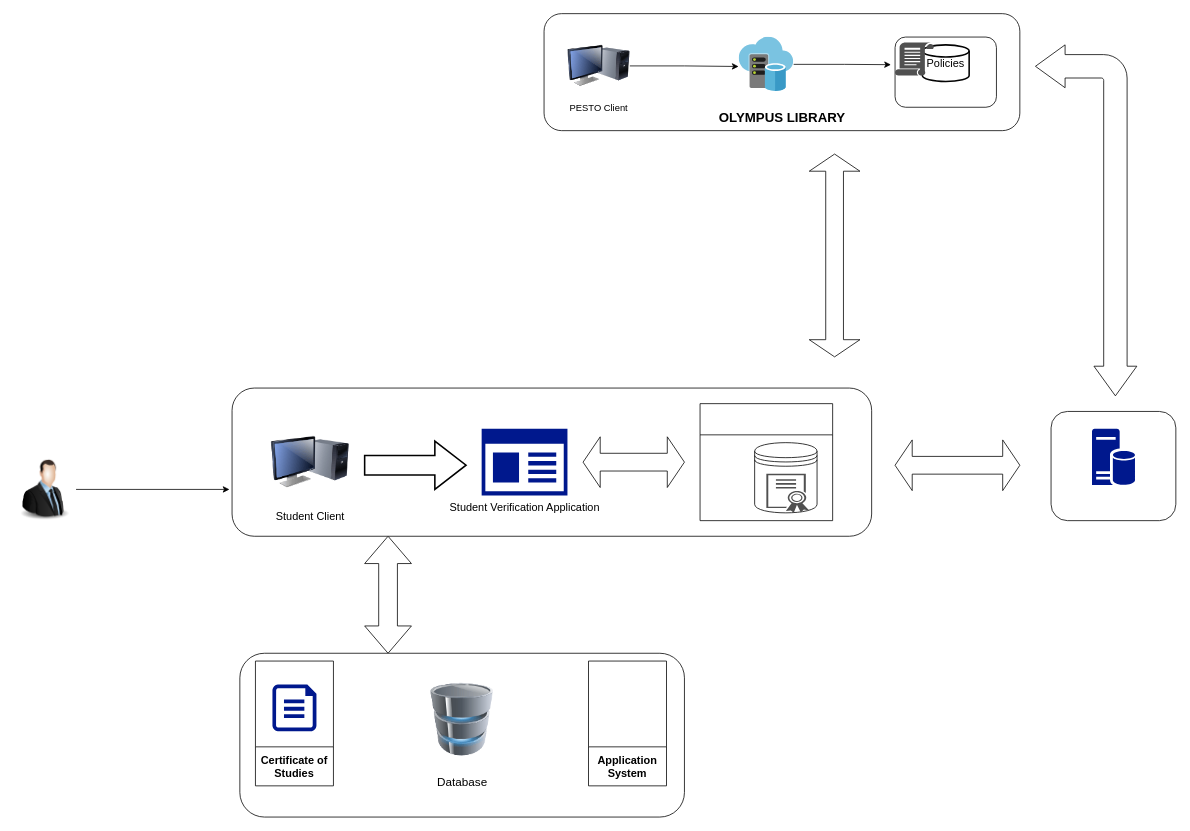
Some shapes in this 1190 by 831 pixel diagram are drawn without their labels. The shapes that lost their labels are listed below. From the top down, each one's box as (x1, y1, x2, y2) in pixels, then its label:
(739, 37, 793, 91): VidP
(894, 36, 996, 107): Verifier
(699, 403, 833, 521): Credential Manager
(1092, 428, 1135, 485): Student Server Database
